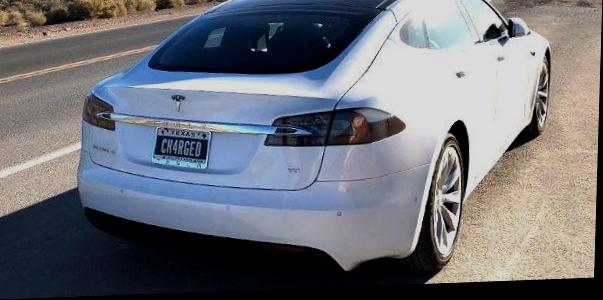License_Plate: (149, 123, 211, 171)
